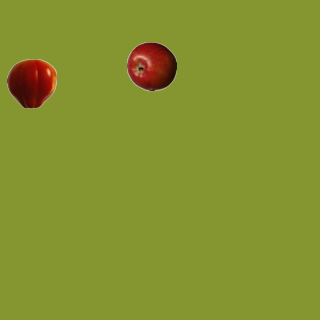Apple Braeburn: (126, 41, 176, 91)
Tomato 1: (6, 58, 56, 108)
